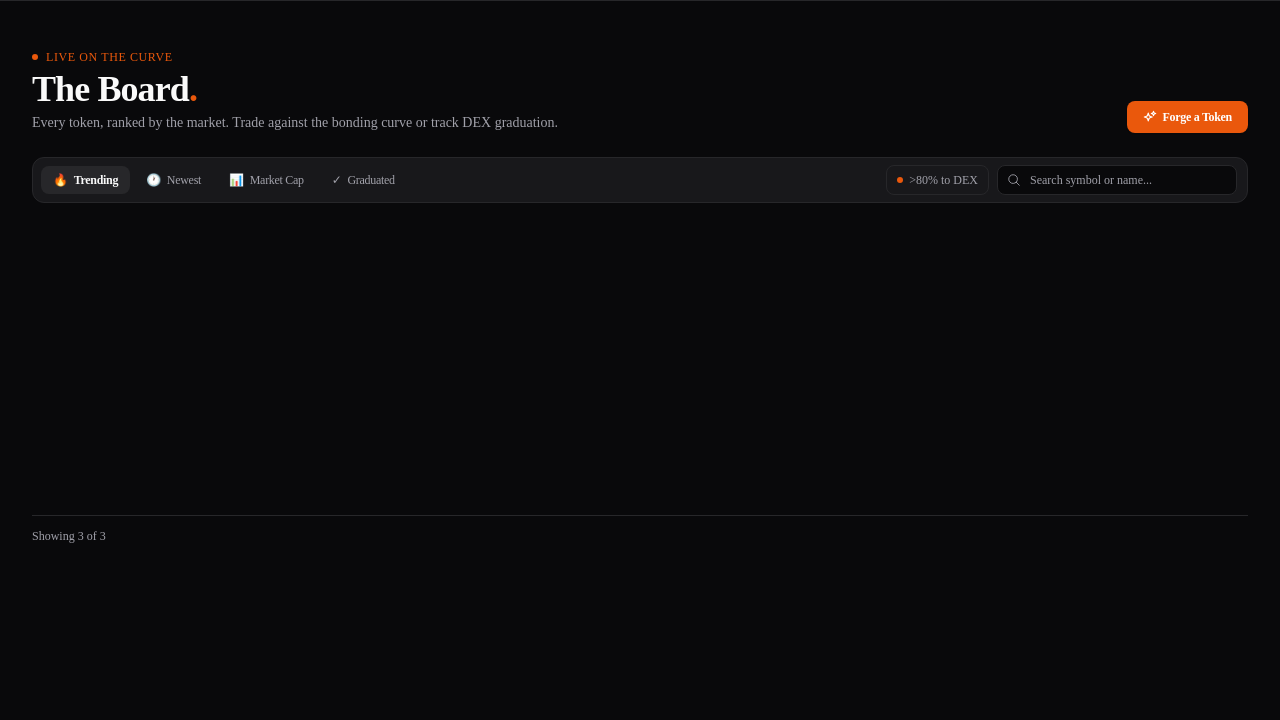
Test: TokenFeed Search, Filtering & Pagination › shows empty filter state when no tokens match search query and resets on clear
Type "NONEXISTENT" into the field named "Search tokens" at x=1117, y=180, box [997,165,1237,195]
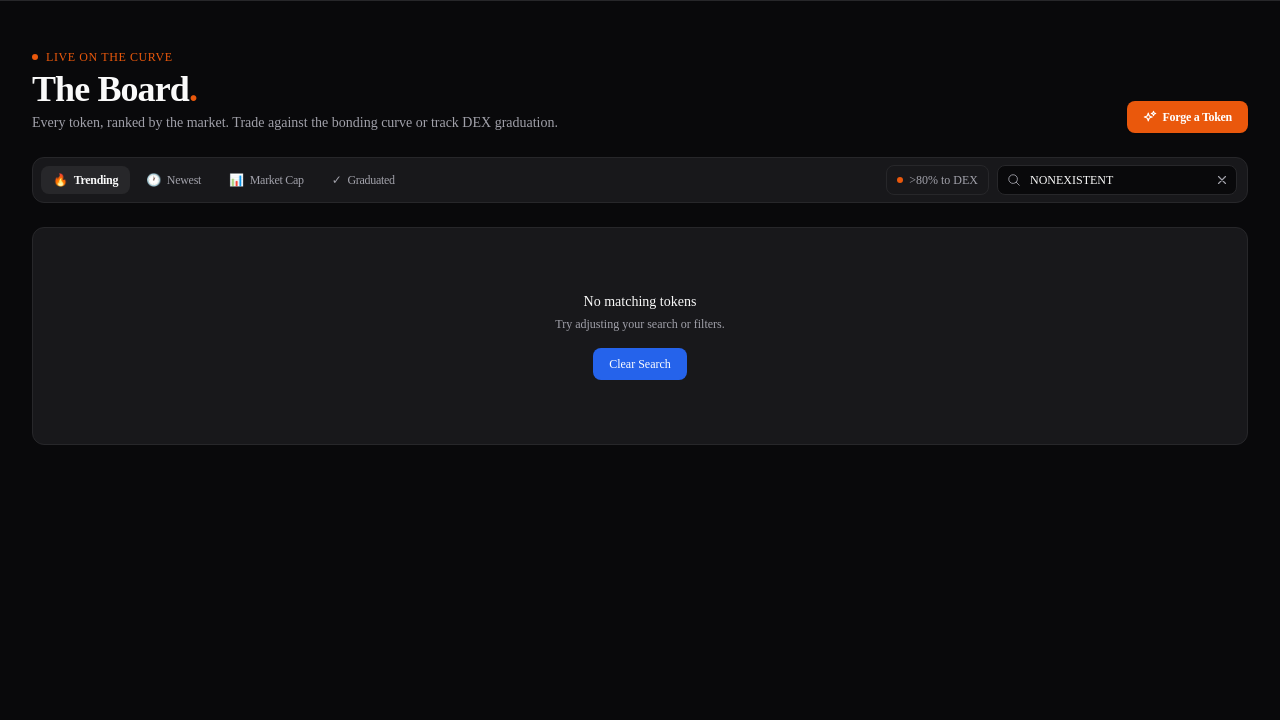
expect the text "No matching tokens" is shown: met, box [584,294,696,309]
Note: Clicking Clear Search resets search
Click the button "Clear Search" at x=640, y=364, box [593,348,687,380]
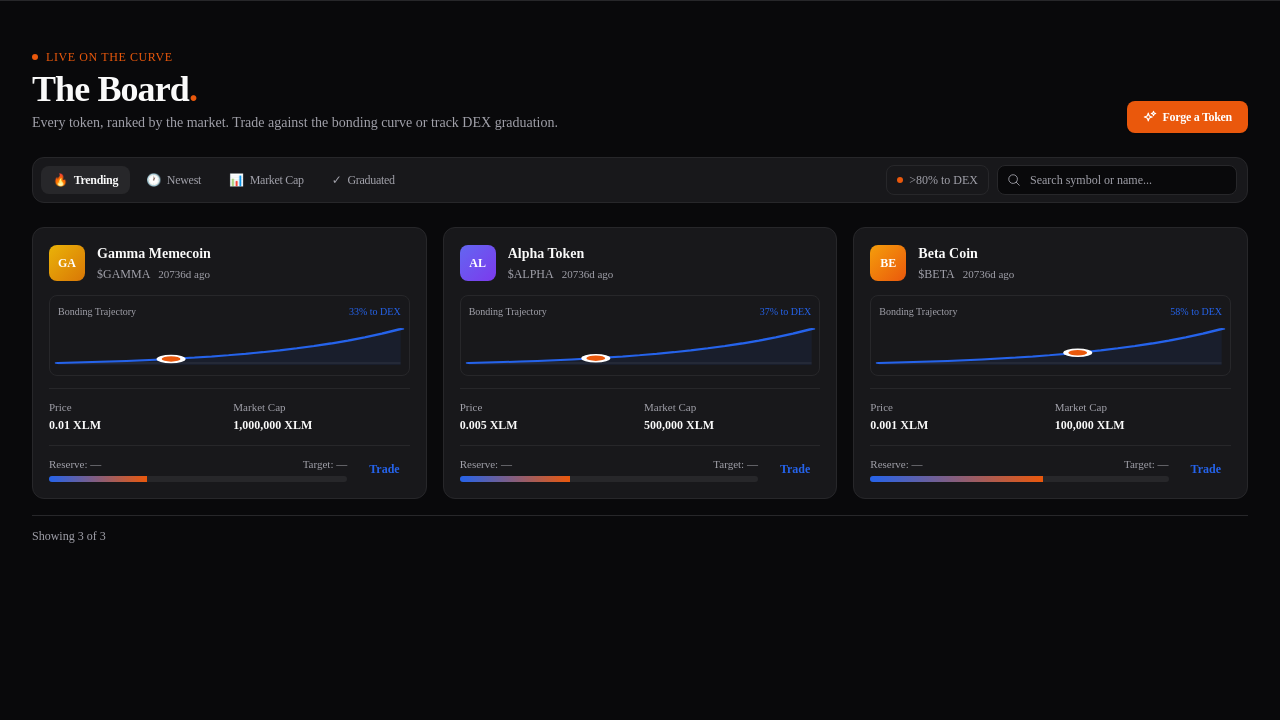
expect the heading "Alpha Token" is shown: met, box [508,246,584,261]
expect the heading "Beta Coin" is shown: met, box [918,246,978,261]
expect the heading "Gamma Memecoin" is shown: met, box [97,244,211,264]
